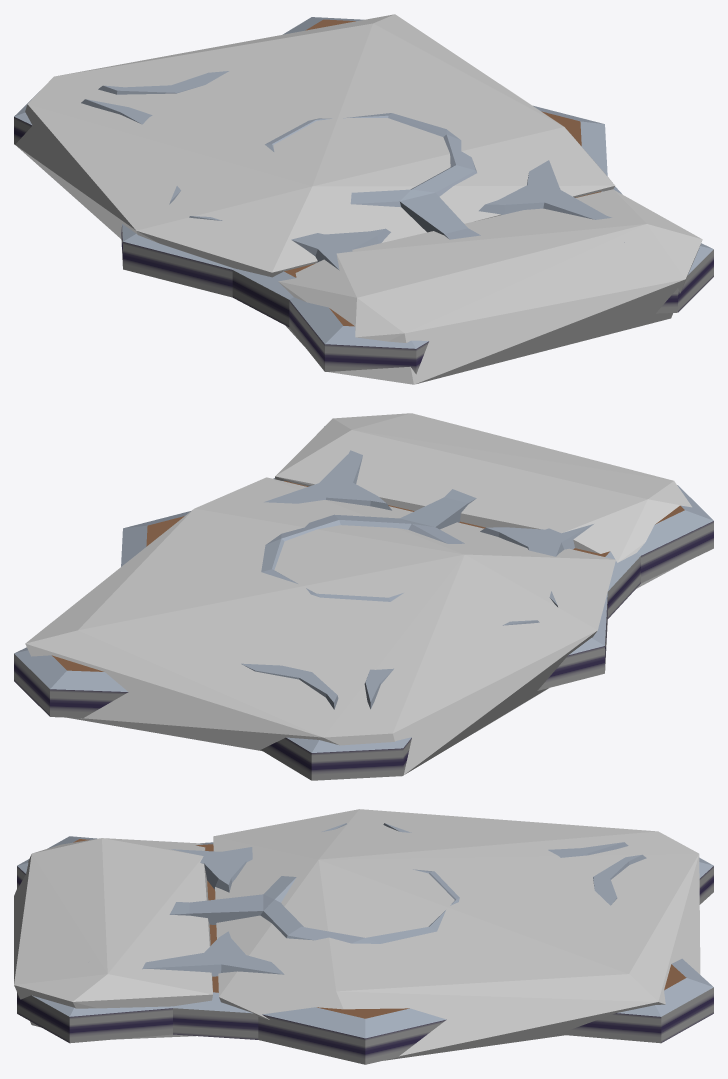
Rendered from SM_Prop_Jewellery_Box_01_Lid_01.fbx.
3 views of the same model, one above another, from view 1: azimuth 30°, elevation 25°; view 2: azimuth 150°, elevation 25°; view 3: azimuth 270°, elevation 25° (orthographic). The views are drawn at different scales.
Visible parts, largest first — view 1: SM_Prop_Jewellery_Box_01_Lid_01_ConvexHulls, SM_Prop_Jewellery_Box_01_Lid_01; view 2: SM_Prop_Jewellery_Box_01_Lid_01_ConvexHulls, SM_Prop_Jewellery_Box_01_Lid_01; view 3: SM_Prop_Jewellery_Box_01_Lid_01_ConvexHulls, SM_Prop_Jewellery_Box_01_Lid_01.
Part boxes in pixels (x1=…): SM_Prop_Jewellery_Box_01_Lid_01_ConvexHulls: x1=15, y1=14, x2=702, y2=384; SM_Prop_Jewellery_Box_01_Lid_01: x1=14, y1=17, x2=713, y2=374; SM_Prop_Jewellery_Box_01_Lid_01_ConvexHulls: x1=25, y1=413, x2=691, y2=774; SM_Prop_Jewellery_Box_01_Lid_01: x1=14, y1=426, x2=713, y2=780; SM_Prop_Jewellery_Box_01_Lid_01_ConvexHulls: x1=14, y1=809, x2=700, y2=1060; SM_Prop_Jewellery_Box_01_Lid_01: x1=17, y1=823, x2=713, y2=1064.
Bounding box in the file's own units: 24.21 × 32 × 3.48.
Materials: 2 (1 with a texture image).
